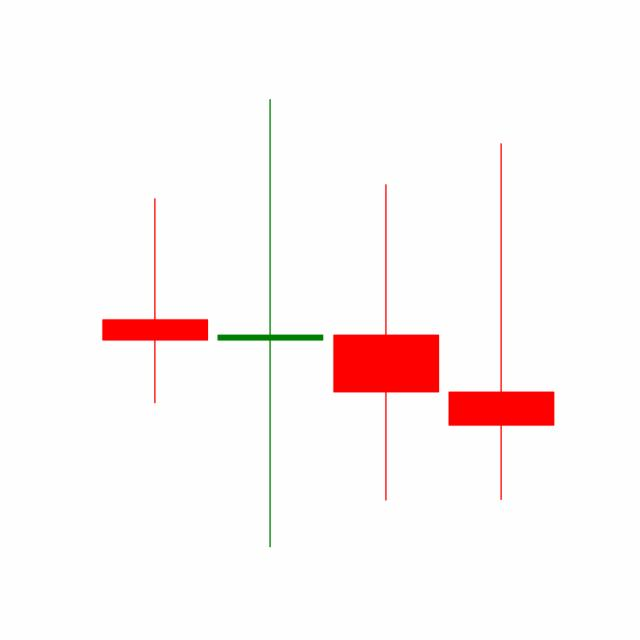Spinning Top: (443, 140, 559, 504)
